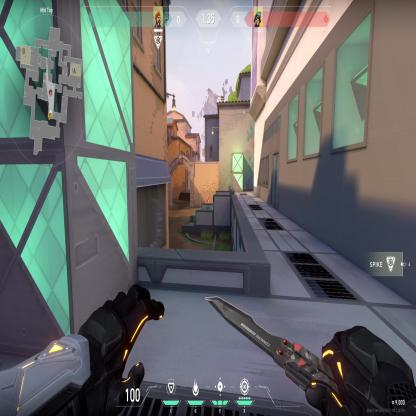enemy: (205, 194, 210, 203)
